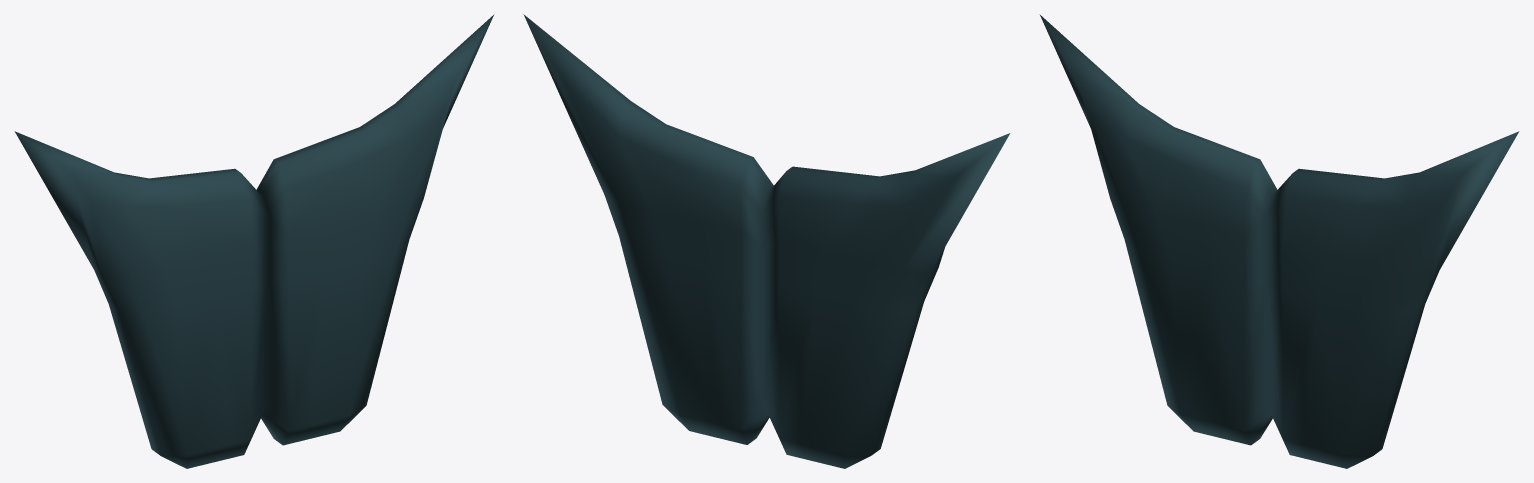
Rendered from whipper_body.fbx.
The picture shows the model from 3 angles, left to right: view 1: azimuth 30°, elevation 25°; view 2: azimuth 150°, elevation 25°; view 3: azimuth 330°, elevation 25°; orthographic projection.
Parts seen in each view (by area): view 1: Body-Segment; view 2: Body-Segment; view 3: Body-Segment.
Part boxes in pixels (bbox=[...]): Body-Segment: bbox=[14, 14, 494, 468]; Body-Segment: bbox=[523, 14, 1010, 468]; Body-Segment: bbox=[1039, 14, 1519, 468].
Bounding box in the file's own units: 80.95 × 6.56 × 59.78.
